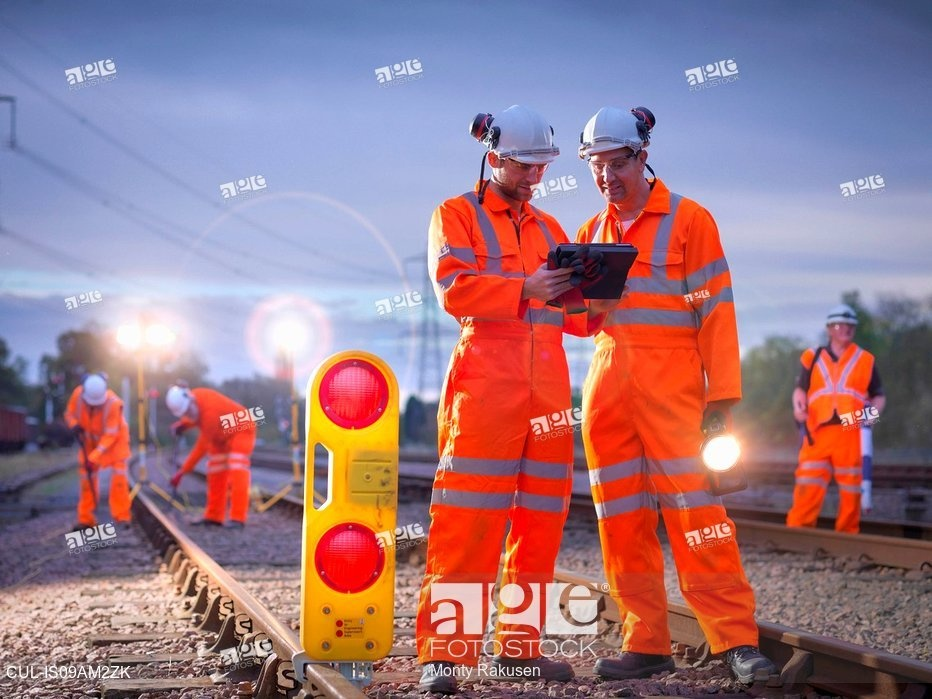white: (484, 105, 555, 201), (581, 107, 649, 204), (823, 302, 858, 345), (165, 384, 197, 423), (80, 374, 110, 410)
